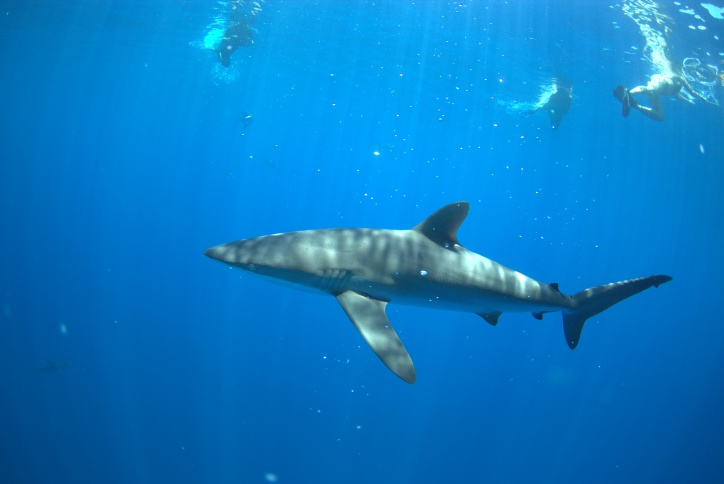Sedoso: (193, 193, 674, 394)
